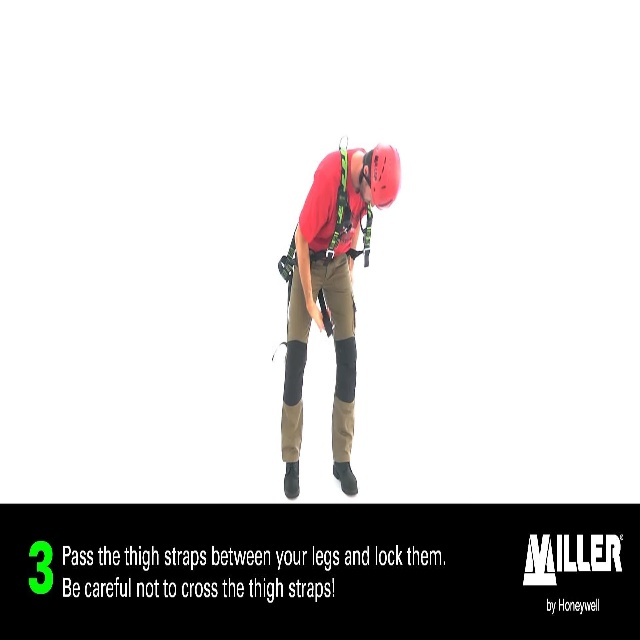Arnes_seguridad: (272, 138, 378, 339)
